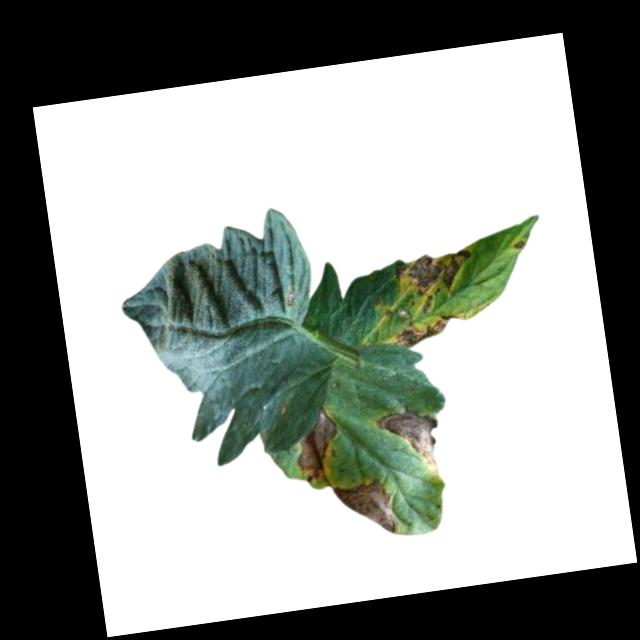Early_blight: (392, 241, 481, 317), (376, 403, 448, 477), (288, 402, 346, 486), (332, 475, 400, 541), (392, 311, 457, 349), (280, 284, 300, 310), (511, 236, 528, 250)
